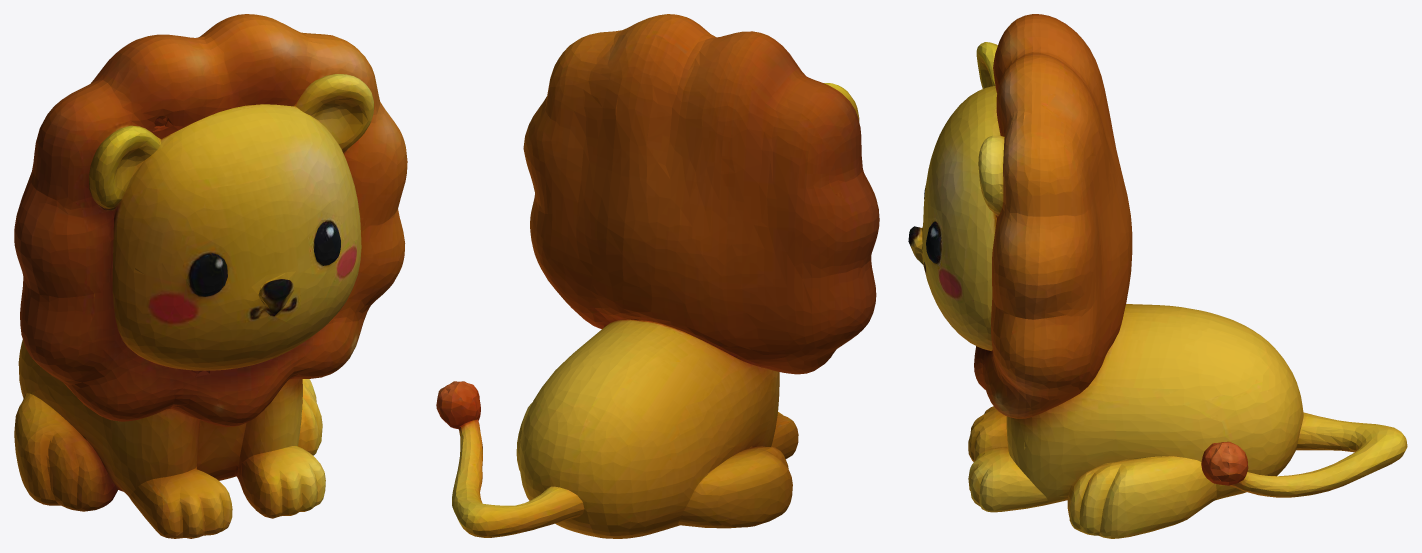
The model's file is lion.glb.
3 renders of one model, left to right at view 1: azimuth 30°, elevation 25°; view 2: azimuth 150°, elevation 25°; view 3: azimuth 270°, elevation 25°, orthographic. The views are drawn at different scales.
Visible parts, largest first — view 1: geometry_0; view 2: geometry_0; view 3: geometry_0.
Part boxes in pixels (x1,y1,x2,y2): geometry_0: (14, 14, 407, 538); geometry_0: (436, 14, 879, 538); geometry_0: (908, 14, 1407, 538).
Bounding box in the file's own units: 0.7978 × 0.9653 × 0.994.
1 material, 1 textured.
